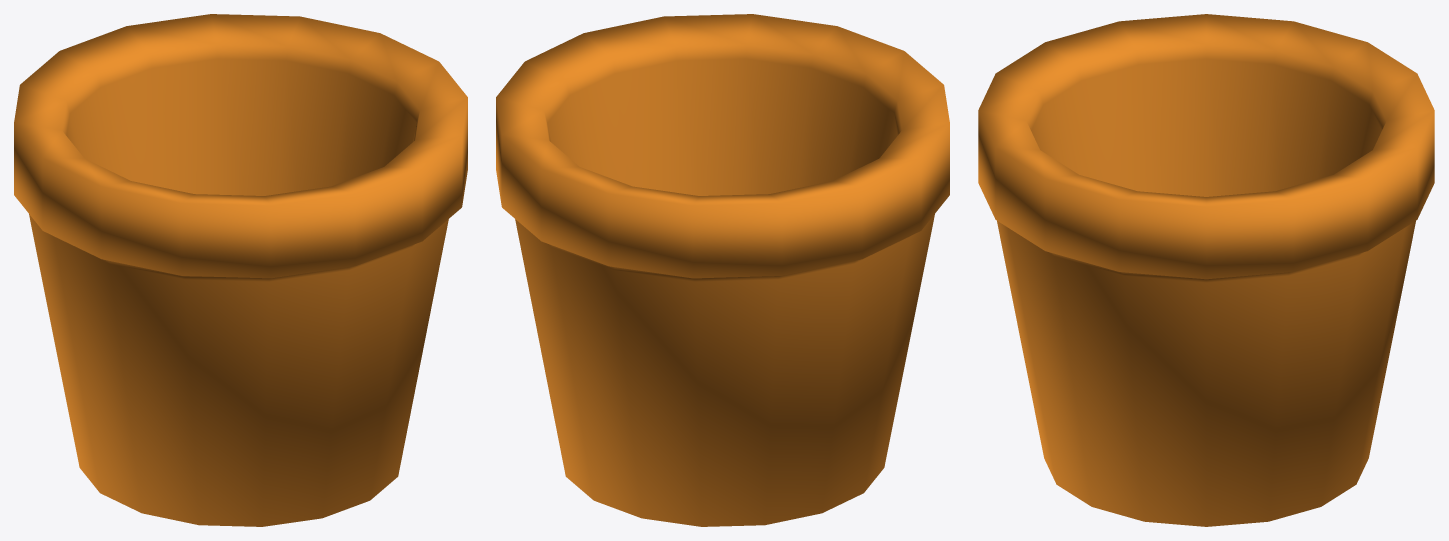
File: Vaso.fbx
The picture shows the model from 3 angles, left to right: view 1: azimuth 30°, elevation 25°; view 2: azimuth 150°, elevation 25°; view 3: azimuth 270°, elevation 25°; orthographic projection.
Parts seen in each view (by area): view 1: vaso; view 2: vaso; view 3: vaso.
Part boxes in pixels (<box>): vaso: <box>14,14,467,526</box>; vaso: <box>496,14,949,526</box>; vaso: <box>978,14,1434,526</box>.
Bounding box in the file's own units: 29.51 × 24.82 × 29.51.
